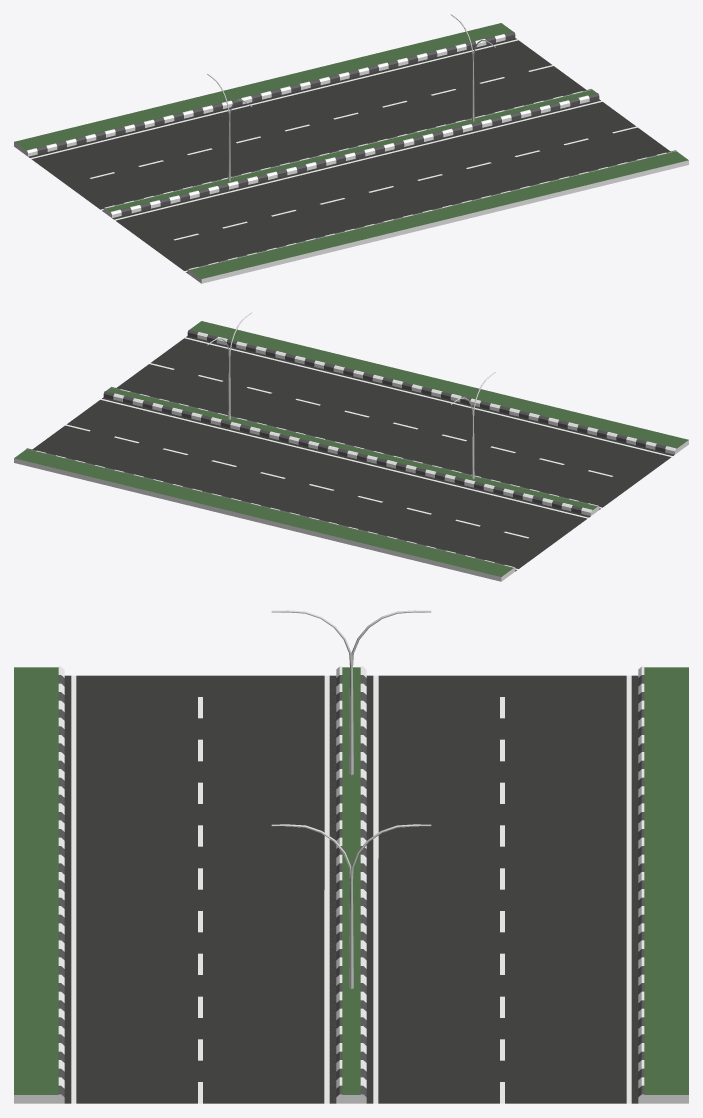
File: HighWay.fbx
The picture shows the model from 3 angles, top to bottom: view 1: azimuth 30°, elevation 25°; view 2: azimuth 150°, elevation 25°; view 3: azimuth 270°, elevation 25°; orthographic projection. The views are drawn at different scales.
Parts seen in each view (by area): view 1: HighWay; view 2: HighWay; view 3: HighWay.
Part boxes in pixels (box(x1,y1,x2,y2)): HighWay: box(14, 14, 688, 283); HighWay: box(14, 312, 688, 581); HighWay: box(14, 610, 688, 1103).
Bounding box in the file's own units: 36576 × 6861 × 24384.
